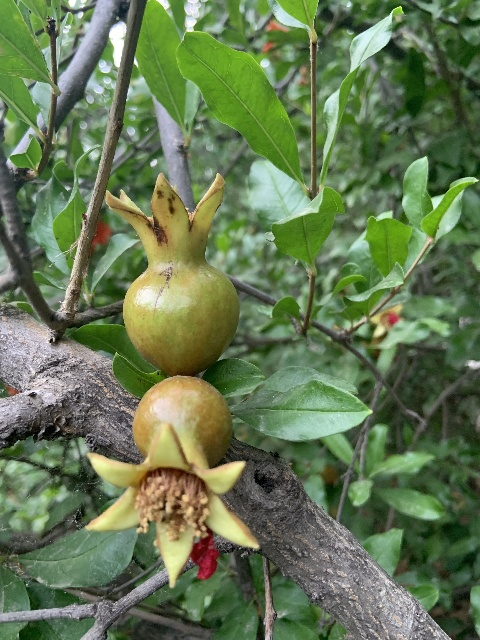early-fruit: (82, 376, 260, 586)
mid-growth: (105, 172, 239, 374)
